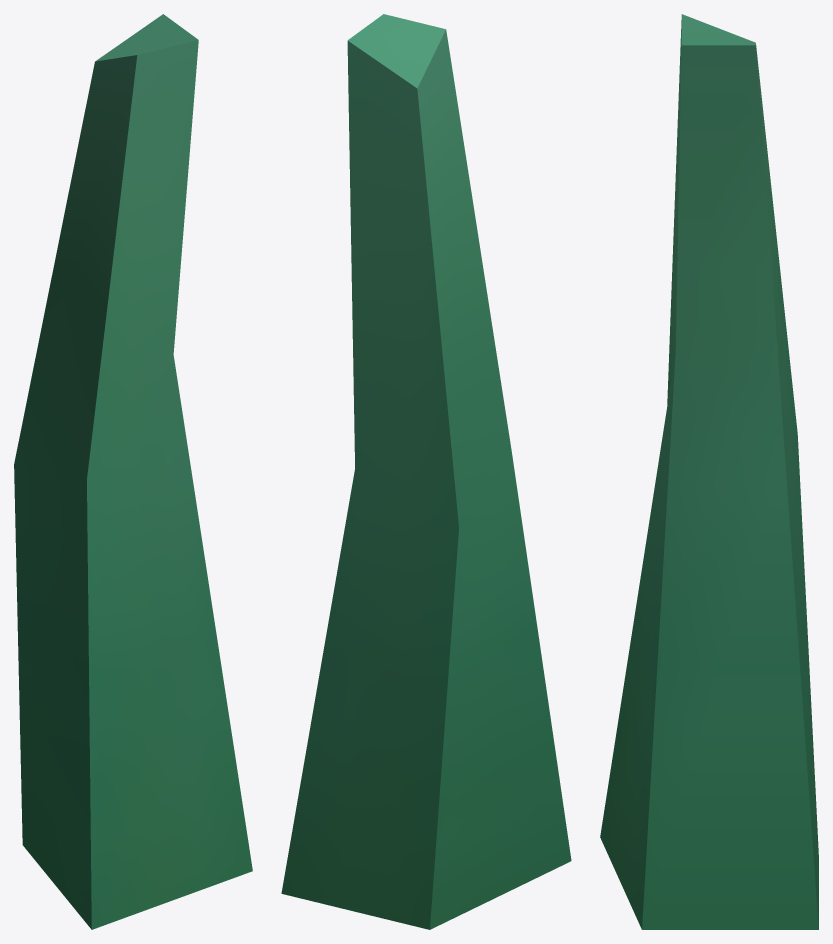
3 views of the same model, side by side, from view 1: azimuth 30°, elevation 25°; view 2: azimuth 150°, elevation 25°; view 3: azimuth 270°, elevation 25° (orthographic). The views are drawn at different scales.
Visible parts, largest first — view 1: Reed001; view 2: Reed001; view 3: Reed001.
Boxes of the visible parts, <box> form: Reed001: <box>14,14,252,929</box>; Reed001: <box>281,14,571,929</box>; Reed001: <box>600,14,818,929</box>.
Size of the model in its own units: 0.9351 by 4.08 by 0.9324.
Materials: 1 (1 with a texture image).
